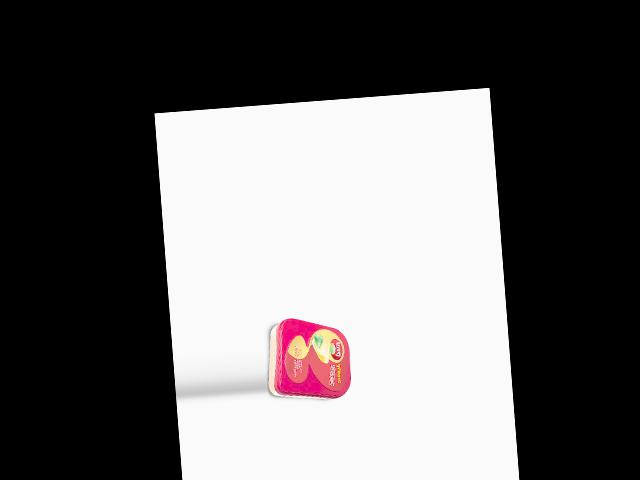cheese: (263, 313, 353, 403)
